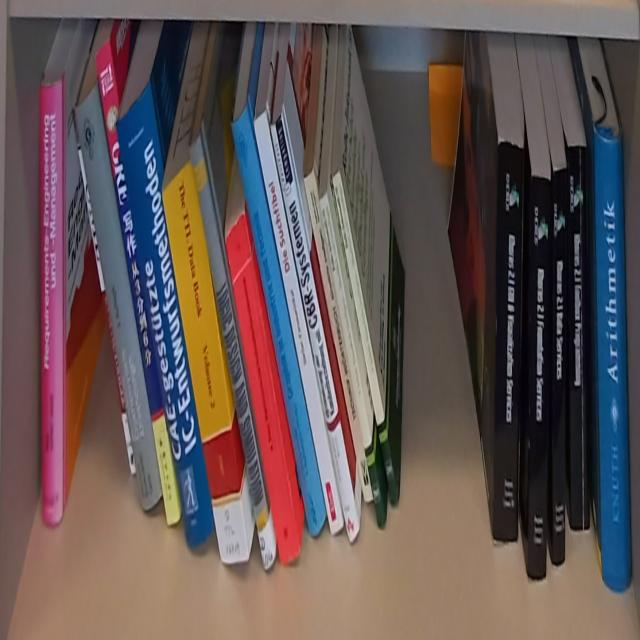Book Spine: (115, 86, 217, 550), (229, 97, 327, 540), (96, 35, 181, 529), (269, 106, 361, 550), (252, 103, 344, 539), (189, 129, 278, 578), (76, 80, 162, 518), (160, 158, 249, 569), (224, 209, 301, 571), (302, 170, 373, 507), (331, 169, 400, 512), (319, 193, 388, 534), (72, 116, 135, 473), (594, 129, 631, 595), (492, 138, 524, 549), (40, 74, 64, 532), (528, 177, 552, 585), (568, 147, 590, 533), (551, 166, 568, 571)
